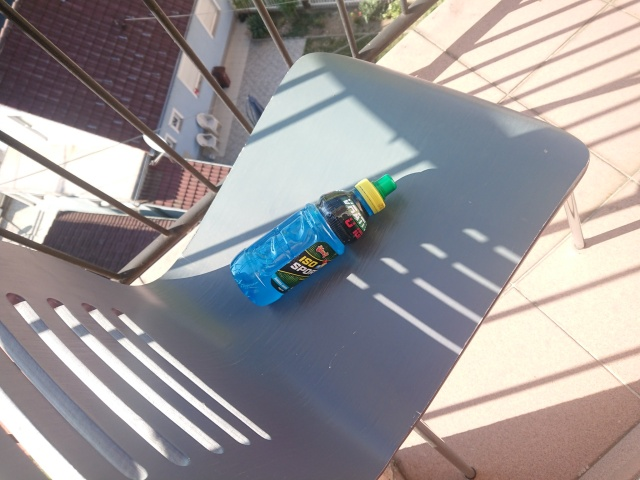Vindi Iso Sport Forest Strawberries 500mL: (227, 170, 398, 309)
